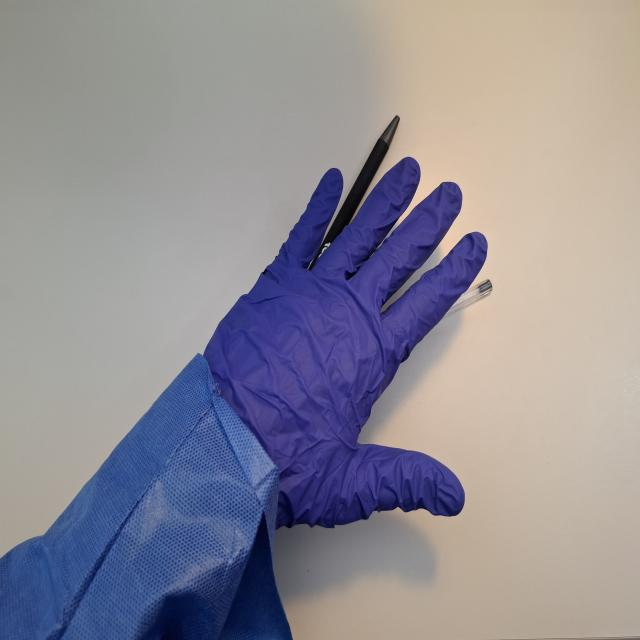glove_on: (188, 154, 490, 539)
